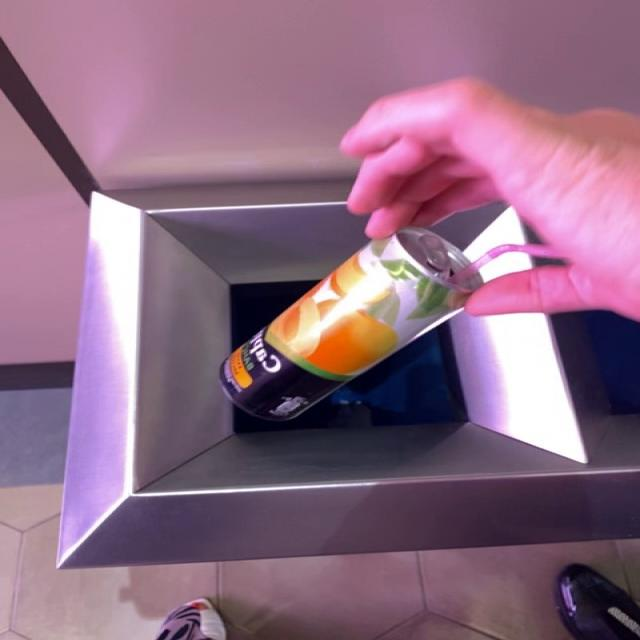bin: (60, 184, 637, 568)
metal: (219, 228, 483, 422)
